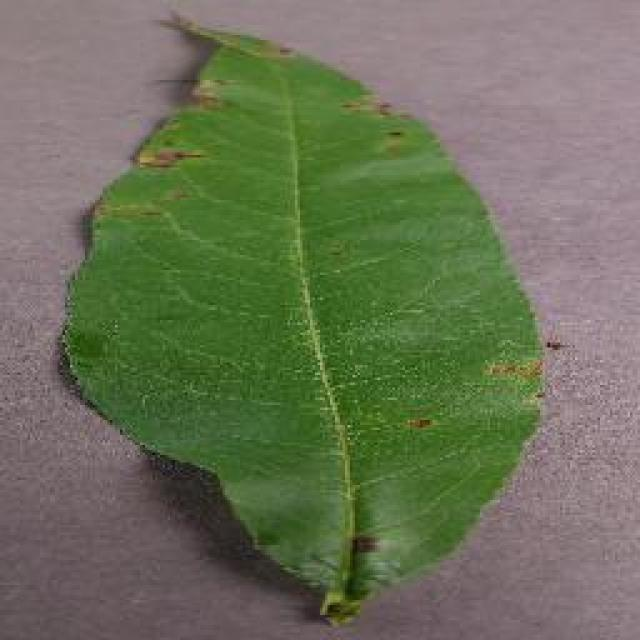Peach_Bacterial_Spot: (137, 38, 405, 280)
